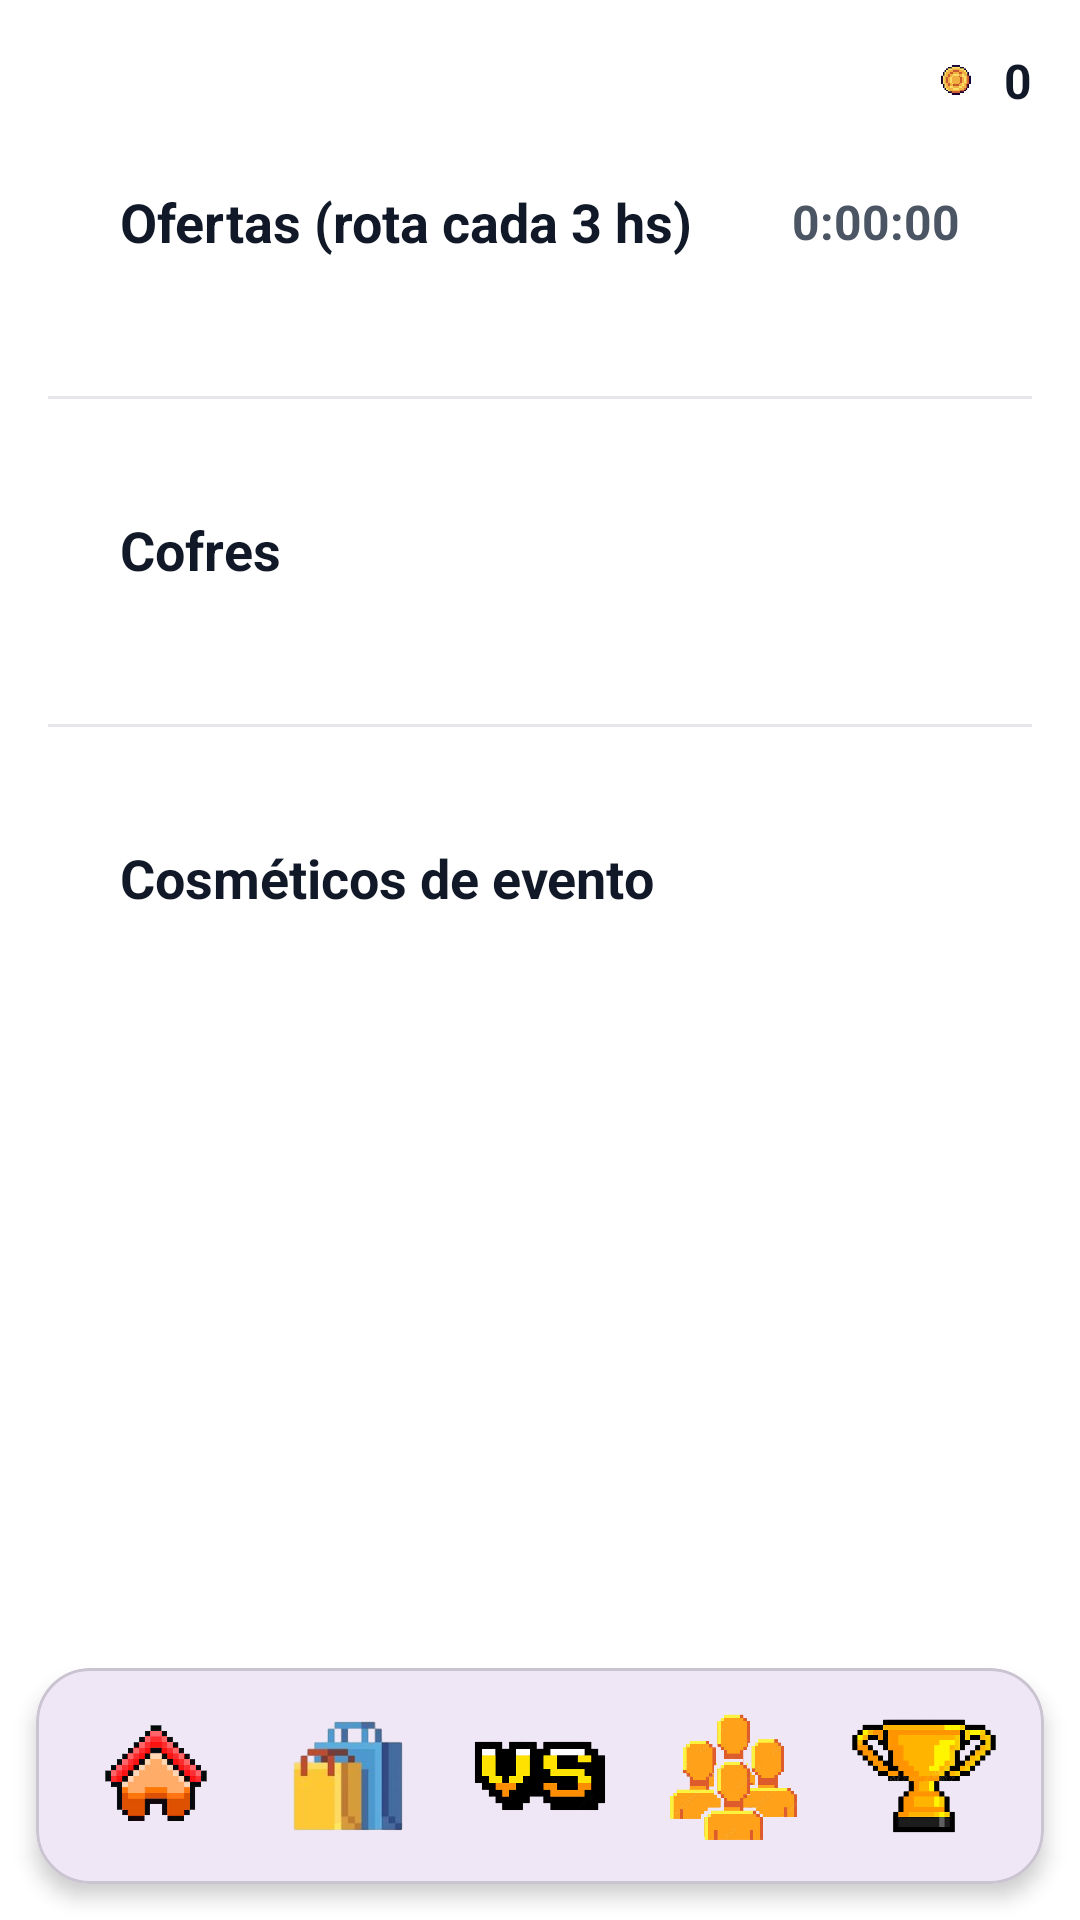

Screen size 1080px x 1920px. Icon name, then its box in pixels as (x1, y1, x2, y2):
coins: (941, 65, 971, 95)
leaderboards: (852, 1719, 996, 1833)
main: (105, 1725, 207, 1821)
shop: (293, 1722, 403, 1830)
